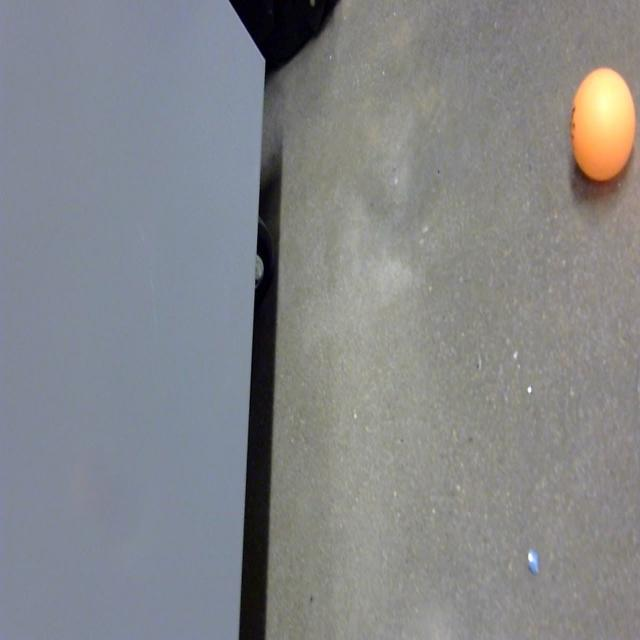ball: (570, 63, 636, 186)
